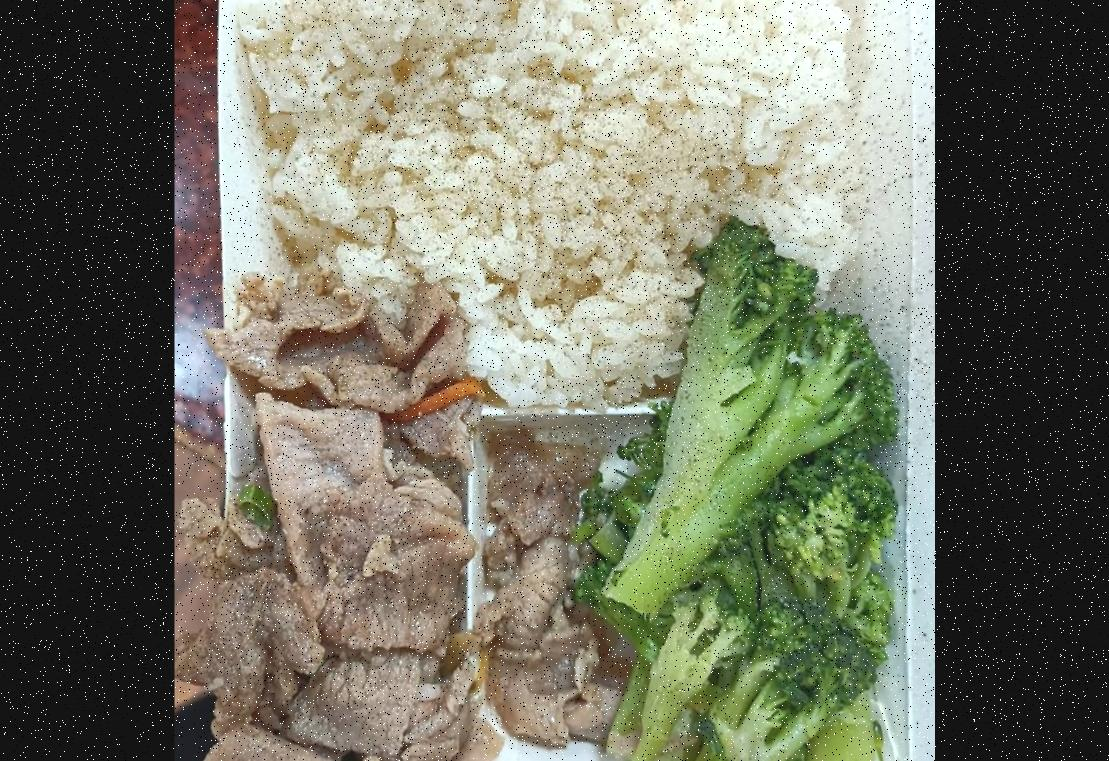big grilled chicken leg: (188, 0, 906, 761)
big herbal chicken leg: (244, 0, 866, 393)
braised fish fillet: (580, 222, 908, 761)
braised pork: (184, 263, 619, 761)
